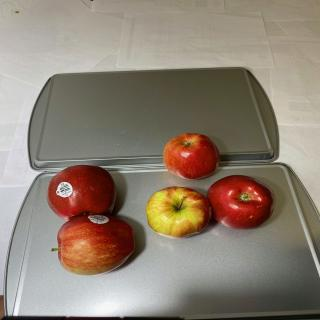Apple: (51, 214, 135, 276), (46, 164, 116, 220), (207, 174, 276, 230), (146, 186, 212, 239), (163, 132, 220, 180)
